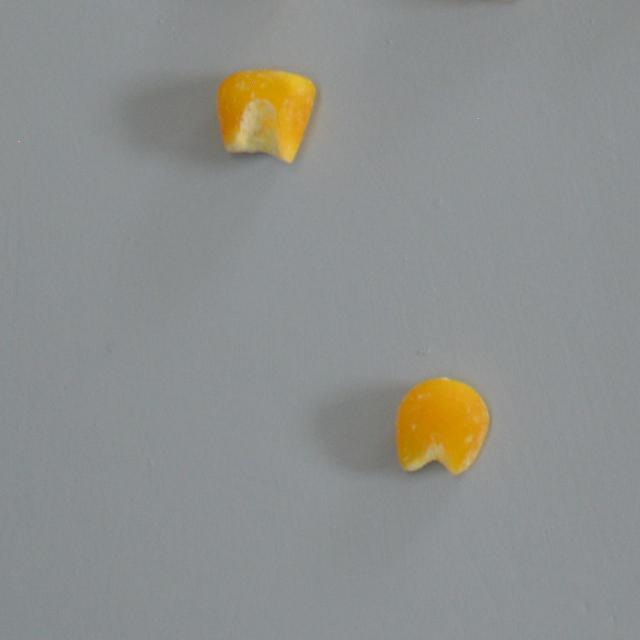pelicula: (392, 374, 488, 474), (215, 69, 316, 162)
